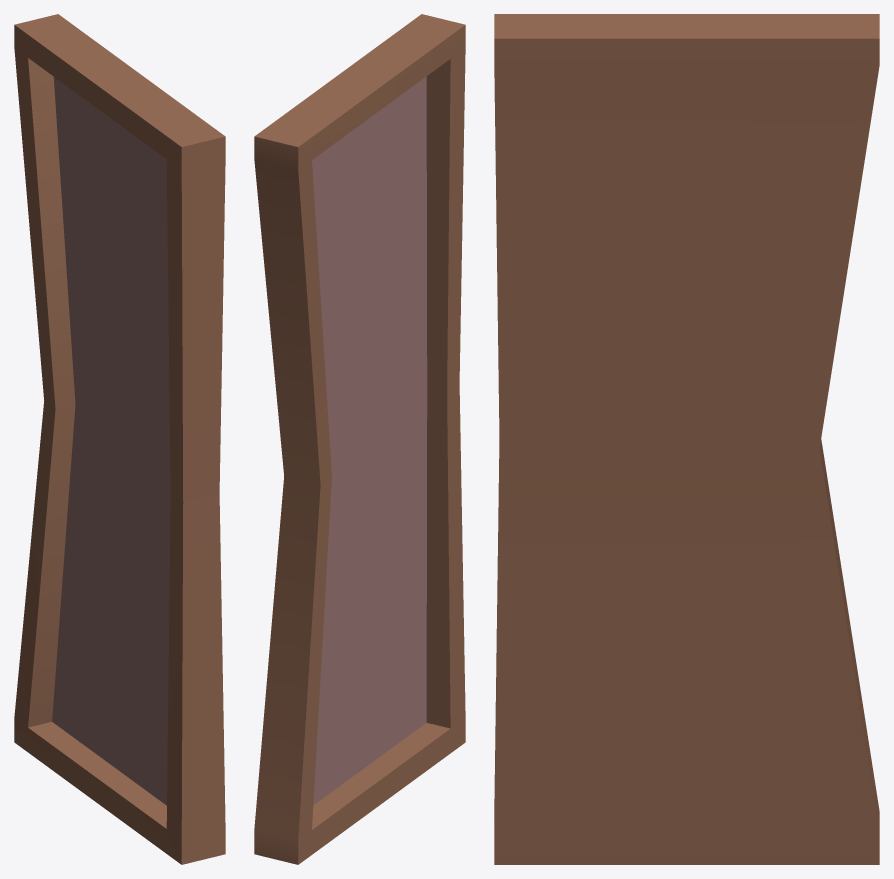
The model's file is picture_frame_horizontal.fbx.
3 renders of one model, left to right at view 1: azimuth 30°, elevation 25°; view 2: azimuth 150°, elevation 25°; view 3: azimuth 270°, elevation 25°, orthographic. The views are drawn at different scales.
Parts seen in each view (by area): view 1: pCube13; view 2: pCube13; view 3: pCube13.
Boxes of the visible parts, left/top/right/bottom form: pCube13: left=14, top=14, right=225, bottom=864; pCube13: left=254, top=14, right=465, bottom=864; pCube13: left=494, top=14, right=879, bottom=864.
Bounding box in the file's own units: 24.42 × 382 × 161.
